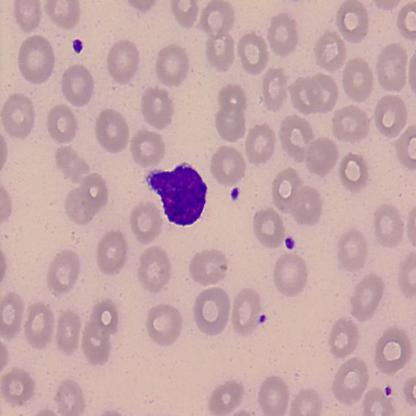Basophil: (139, 158, 210, 230)
